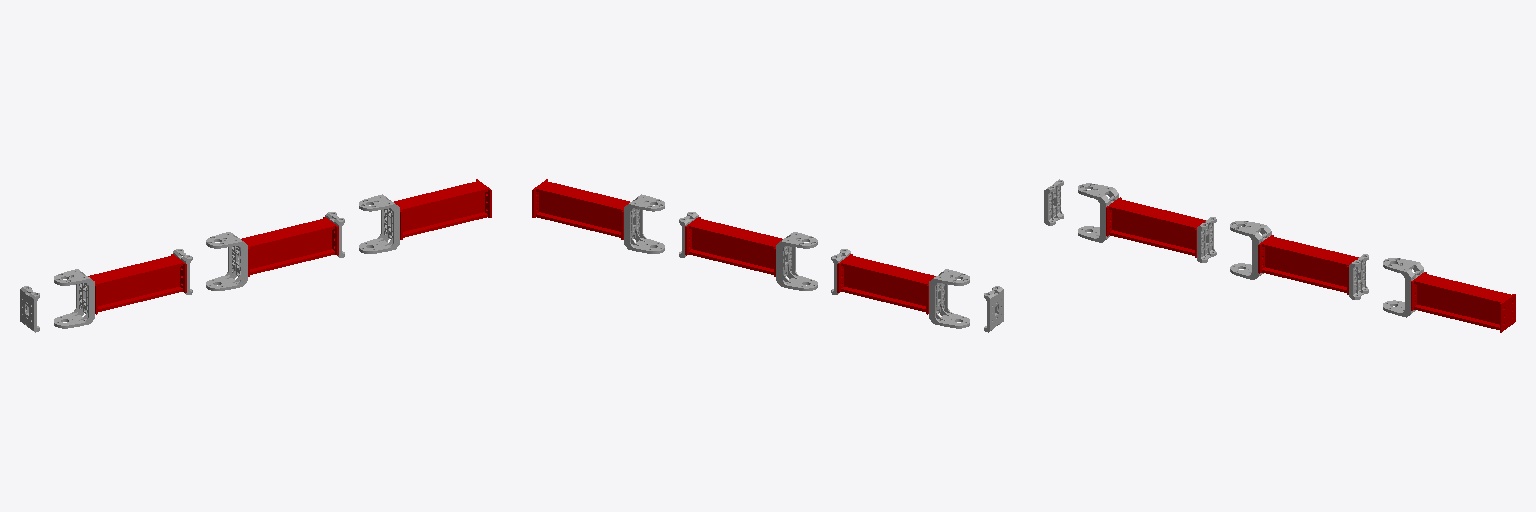
The robot description file, URDF, robot "scara_robot":
<?xml version="1.0"?>
<robot name="scara_robot">
  <material name="shared_blue">
      <color rgba="0 0 0.8 1"/>
  </material>

  <material name="shared_red">
      <color rgba="0.8 0 0 1"/>
  </material>

  <material name="shared_green">
      <color rgba="0 0.8 0 1"/>
  </material>

  <material name="shared_dark_gray">
      <color rgba="0.3 0.3 0.3 1"/>
  </material>

  <material name="shared_light_gray">
      <color rgba="0.7 0.7 0.7 1"/>
  </material>

       <!-- mini socket 1 -->          
        <link name="base_link">
        </link>      


       <!-- mini socket 1 -->          
        <link name="minisocket_1">
      <visual>
        <geometry>
          <mesh filename="package://urdf_visualisation/meshes/ax12-socketmini.stl"/>
        </geometry>
   <origin xyz="0 0 0" rpy="0 0 -1.57079" />
    <material name="shared_light_gray"/>
        
      </visual>
          </link>      

  <!-- Joint 1 -->
  <joint name="collage0" type="fixed">
    <parent link="base_link"/>
    <child link="minisocket_1"/>
    <origin xyz="0 0 0" rpy="0 0 0" />
  </joint>


 <!-- servo1 -->
  <link name="servo1">
    <visual>
      <geometry>
        <mesh filename="package://urdf_visualisation/meshes/ax12a.stl"/>
      </geometry>
      <origin xyz="0 0 0" rpy="0 0 3.14159 " />

    <material name="shared_dark_gray"/>

    </visual>
    <collision>
      <geometry>
        <mesh filename="package://urdf_visualisation/meshes/ax12a.stl"/>
      </geometry>
    </collision>
   
  </link>



  <!-- Joint 1 -->
  <joint name="collage1" type="fixed">
    <parent link="minisocket_1"/>
    <child link="servo1"/>
    <origin xyz="42 0 0" rpy="0 0 0" />
  </joint>

       <!-- socket 1 -->
    <link name="socket_1">
      <visual>
        <geometry>
          <mesh filename="package://urdf_visualisation/meshes/ax12-socket.stl"/>
        </geometry>
    <origin xyz="0.0 0 0" rpy="0 1.57079 0" />
    <material name="shared_light_gray"/>
        
      </visual>
          </link>

             <!-- Joint 1 -->
  <joint name="joint1" type="revolute">
    <parent link="servo1"/>
    <child link="socket_1"/>
   <axis xyz="0 0 1" />
    <limit lower="-3.14159" upper="3.14159" effort="1000.0" velocity="1.0"/>
    <dynamics damping="0.7"/>
  </joint>


  <!-- Link 1 -->
  <link name="link1">
    <visual>
      <geometry>
        <mesh filename="package://urdf_visualisation/meshes/bras.stl"/>
      </geometry>
      <origin xyz="0 0 0" rpy="1.57079 0 1.57079" />
    <material name="shared_red"/>

    </visual>
    
    <collision>
      <geometry>
        <mesh filename="package://urdf_visualisation/meshes/bras.stl"/>
      </geometry>
    </collision>
    
    
    <inertial>
      <mass value="1" />
      <inertia ixx="1" ixy="0" ixz="0" iyy="1" iyz="0" izz="1" />
    </inertial>
  </link>

  <!-- Joint 1 -->
  <joint name="collage2" type="fixed">
    <parent link="socket_1"/>
    <child link="link1"/>
    <origin xyz="26 0 0" rpy="0 0 0" />
  </joint>

        <!-- mini socket 2 -->          
        <link name="minisocket_2">
      <visual>
        <geometry>
          <mesh filename="package://urdf_visualisation/meshes/ax12-socketmini.stl"/>
        </geometry>
   <origin xyz="0 0 0" rpy="0 0 -1.57079" />
    <material name="shared_light_gray"/>
        
      </visual>
          </link>      

  <!-- Joint 1 -->
  <joint name="collage3" type="fixed">
    <parent link="link1"/>
    <child link="minisocket_2"/>
    <origin xyz="100 0 0" rpy="0 0 0" />
  </joint>

<!-- servo 2 -->
  <link name="servo2">
    <visual>
      <geometry>
        <mesh filename="package://urdf_visualisation/meshes/ax12a.stl"/>
      </geometry>
      <origin xyz="0 0 0" rpy="0 0 3.14159 " />

    <material name="shared_dark_gray"/>

    </visual>
    <collision>
      <geometry>
        <mesh filename="package://urdf_visualisation/meshes/ax12a.stl"/>
      </geometry>
    </collision>
   
  </link>

  <!-- Joint 1 -->
  <joint name="collage4" type="fixed">
    <parent link="minisocket_2"/>
    <child link="servo2"/>
    <origin xyz="42 0 0" rpy="0 0 0" />
  </joint>


       <!-- socket 2 -->
    <link name="socket_2">
      <visual>
        <geometry>
          <mesh filename="package://urdf_visualisation/meshes/ax12-socket.stl"/>
        </geometry>
    <origin xyz="0.0 0 0" rpy="0 1.57079 0" />
    <material name="shared_light_gray"/>
        
      </visual>
          </link>

             <!-- Joint 2 -->
  <joint name="joint2" type="revolute">
    <parent link="servo2"/>
    <child link="socket_2"/>
   <axis xyz="0 0 1" />
    <limit lower="-3.14159" upper="3.14159" effort="1000.0" velocity="1.0"/>
    <dynamics damping="0.7"/>
  </joint>


  <!-- Link 2 -->
  <link name="link2">
    <visual>
      <geometry>
        <mesh filename="package://urdf_visualisation/meshes/bras.stl"/>
      </geometry>
      <origin xyz="0 0 0" rpy="1.57079 0 1.57079" />
    <material name="shared_red"/>

    </visual>
    
    <collision>
      <geometry>
        <mesh filename="package://urdf_visualisation/meshes/bras.stl"/>
      </geometry>
    </collision>
    
    
    <inertial>
      <mass value="1" />
      <inertia ixx="1" ixy="0" ixz="0" iyy="1" iyz="0" izz="1" />
    </inertial>
  </link>

  <!-- Joint 1 -->
  <joint name="collage5" type="fixed">
    <parent link="socket_2"/>
    <child link="link2"/>
    <origin xyz="26 0 0" rpy="0 0 0" />
  </joint>

        <!-- mini socket 2 -->          
        <link name="minisocket_3">
      <visual>
        <geometry>
          <mesh filename="package://urdf_visualisation/meshes/ax12-socketmini.stl"/>
        </geometry>
   <origin xyz="0 0 0" rpy="0 0 -1.57079" />
    <material name="shared_light_gray"/>
        
      </visual>
          </link>      

  <!-- Joint 1 -->
  <joint name="collage6" type="fixed">
    <parent link="link2"/>
    <child link="minisocket_3"/>
    <origin xyz="100 0 0" rpy="0 0 0" />
  </joint>


<!-- servo 3 -->
  <link name="servo3">
    <visual>
      <geometry>
        <mesh filename="package://urdf_visualisation/meshes/ax12a.stl"/>
      </geometry>
      <origin xyz="0 0 0" rpy="0 0 3.14159 " />

    <material name="shared_dark_gray"/>

    </visual>
    <collision>
      <geometry>
        <mesh filename="package://urdf_visualisation/meshes/ax12a.stl"/>
      </geometry>
    </collision>
   
  </link>

  <!-- Joint 1 -->
  <joint name="collage7" type="fixed">
    <parent link="minisocket_3"/>
    <child link="servo3"/>
    <origin xyz="42 0 0" rpy="0 0 0" />
  </joint>

       <!-- socket 3 -->
    <link name="socket_3">
      <visual>
        <geometry>
          <mesh filename="package://urdf_visualisation/meshes/ax12-socket.stl"/>
        </geometry>
    <origin xyz="0.0 0 0" rpy="0 1.57079 0" />
    <material name="shared_light_gray"/>
        
      </visual>
          </link>

             <!-- Joint 3 -->
  <joint name="joint3" type="revolute">
    <parent link="servo3"/>
    <child link="socket_3"/>
   <axis xyz="0 0 1" />
    <limit lower="-3.14159" upper="3.14159" effort="1000.0" velocity="1.0"/>
    <dynamics damping="0.7"/>
  </joint>

  <!-- Link 3 -->
  <link name="link3">
    <visual>
      <geometry>
        <mesh filename="package://urdf_visualisation/meshes/bras.stl"/>
      </geometry>
      <origin xyz="0 0 0" rpy="1.57079 0 1.57079" />
    <material name="shared_red"/>

    </visual>
    
    <collision>
      <geometry>
        <mesh filename="package://urdf_visualisation/meshes/bras.stl"/>
      </geometry>
    </collision>
    
    
    <inertial>
      <mass value="1" />
      <inertia ixx="1" ixy="0" ixz="0" iyy="1" iyz="0" izz="1" />
    </inertial>
  </link>

  <!-- Joint 1 -->
  <joint name="collage8" type="fixed">
    <parent link="socket_3"/>
    <child link="link3"/>
    <origin xyz="26 0 0" rpy="0 0 0" />
  </joint>
</robot>

--- What the picture shows (computed from the rendered views, not written in the file) ---
3 views of the same robot in one strip: view 1: azimuth 30°, elevation 25°; view 2: azimuth 150°, elevation 25°; view 3: azimuth 330°, elevation 25° (orthographic).
Model scara_robot with 13 links and 12 joints (3 revolute, 9 fixed), rooted at base_link, posed all joints at 0.
Visible links, largest first — view 1: link1, link3, link2, socket_2, socket_3, socket_1, minisocket_1; view 2: link1, link3, link2, socket_2, socket_3, socket_1, minisocket_1; view 3: link3, link1, link2, socket_2, socket_3, socket_1, minisocket_3, minisocket_2, minisocket_1.
Link boxes in pixels (x1,y1,x2,y2): link1: [88, 254, 186, 314]; link3: [394, 179, 491, 239]; link2: [241, 217, 338, 276]; socket_2: [206, 232, 247, 290]; socket_3: [359, 194, 399, 253]; socket_1: [54, 269, 94, 328]; minisocket_1: [20, 286, 39, 332]; link1: [837, 254, 935, 314]; link3: [532, 179, 629, 239]; link2: [685, 217, 782, 276]; socket_2: [776, 232, 817, 290]; socket_3: [624, 194, 664, 253]; socket_1: [929, 269, 969, 328]; minisocket_1: [984, 286, 1003, 332]; link3: [1411, 272, 1515, 332]; link1: [1106, 197, 1205, 257]; link2: [1258, 235, 1358, 294]; socket_2: [1230, 221, 1271, 279]; socket_3: [1383, 258, 1423, 317]; socket_1: [1078, 183, 1118, 242]; minisocket_3: [1349, 254, 1368, 299]; minisocket_2: [1197, 217, 1216, 262]; minisocket_1: [1044, 179, 1063, 225].
Bounding box of the posed robot: 504 × 27 × 48.8 m (x, y, z).
9 mesh visuals loaded from 4 distinct referenced files (3 binary STL); not drawn: 3 (reference not matched to a file when rendering).
